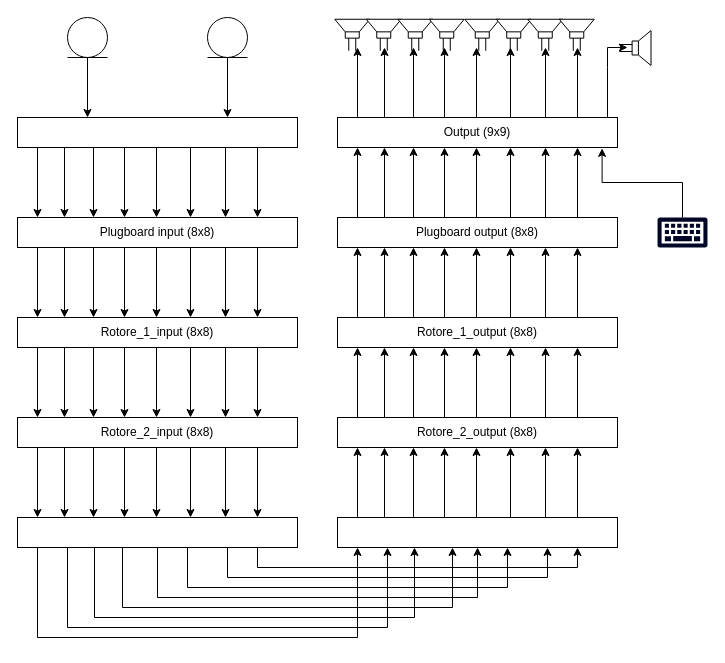
Some shapes in this 725 by 663 pixel diagram are drawn without their labels. Each missing label, with the centre of its shape:
"Rotore_3_input (8x8)" goes at pixel 157 532.
"Rotore_3_output (8x8)" goes at pixel 477 532.
"Tastiera (2x8)" goes at pixel 157 132.
